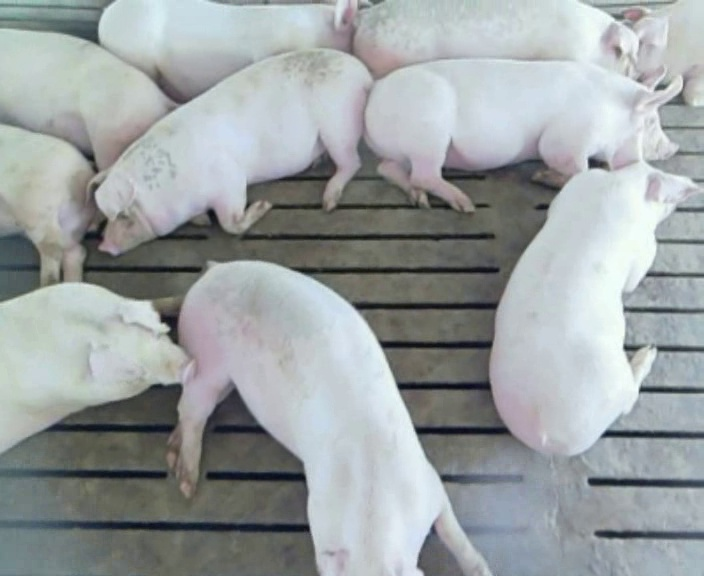pig: (167, 263, 490, 573), (490, 127, 697, 455), (85, 49, 371, 254), (365, 60, 681, 211), (0, 283, 195, 453), (98, 1, 371, 101), (353, 2, 638, 79), (622, 1, 703, 105)
